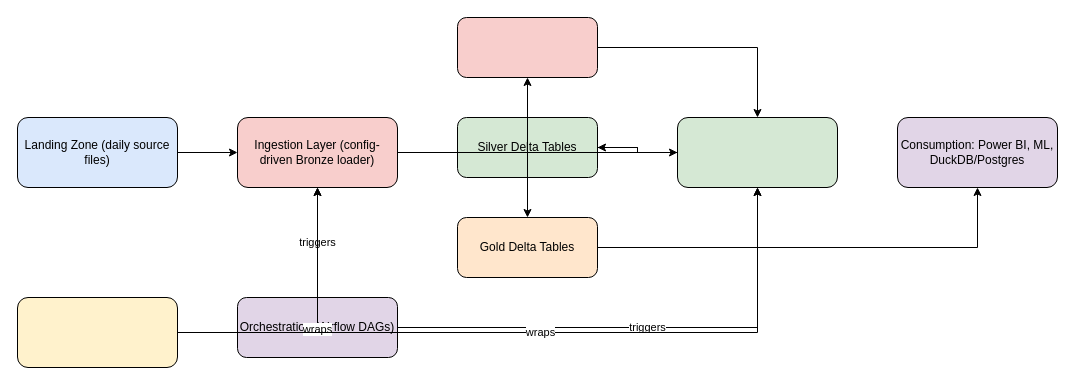
Image size: 1075x385. Some labels were removed from this diagram. Each missing label, with the centre of its shape:
"Bronze Delta Tables" belongs at point 527,47.
"Governance: Logging, DQ, Exception Handling" belongs at point 97,332.
"Processing Layer (PySpark / Spark SQL)" belongs at point 757,152.
